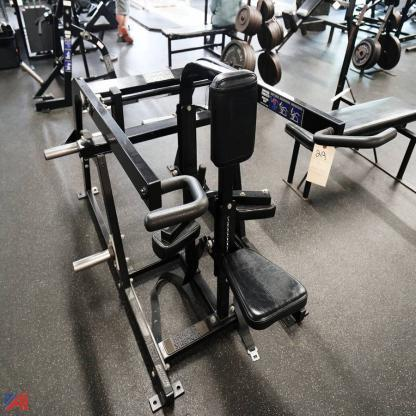seated dip machine: (44, 70, 397, 410)
